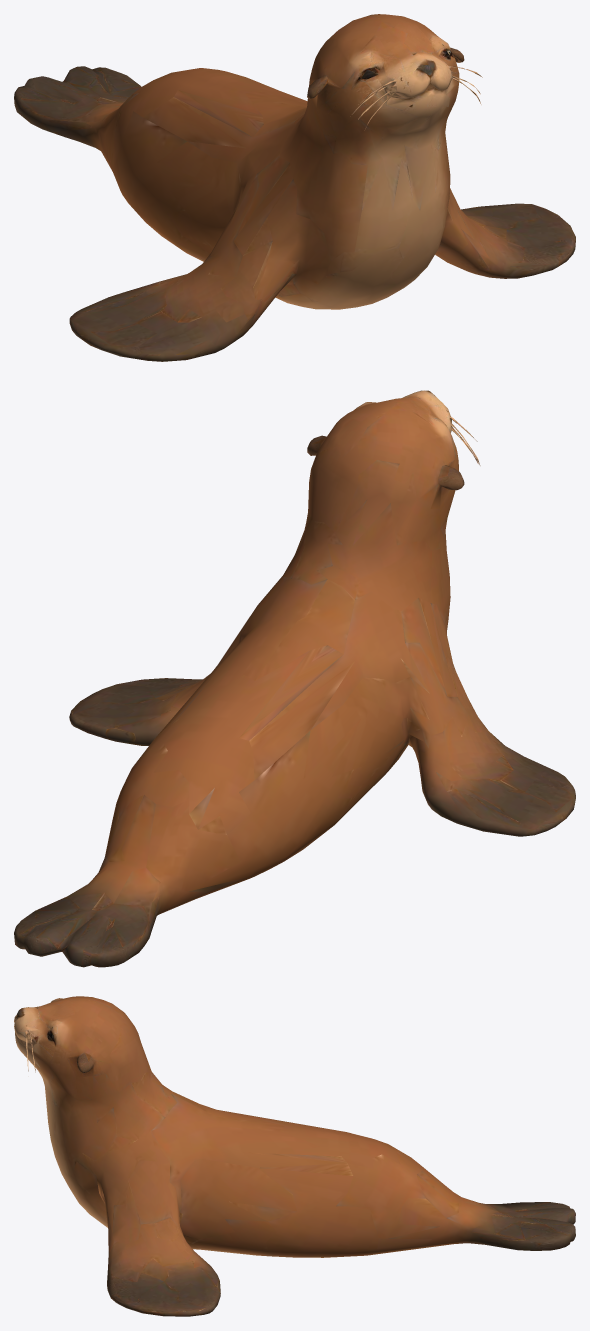
File: sea-lion.glb
3 renders of one model, top to bottom at view 1: azimuth 30°, elevation 25°; view 2: azimuth 150°, elevation 25°; view 3: azimuth 270°, elevation 25°, orthographic. The views are drawn at different scales.
Visible parts, largest first — view 1: sea-lion; view 2: sea-lion; view 3: sea-lion.
Part boxes in pixels (box(x1,y1,x2,y2)): sea-lion: box(14, 14, 575, 361); sea-lion: box(14, 390, 575, 967); sea-lion: box(14, 996, 575, 1316).
Size of the model in its own units: 1.18 by 0.7494 by 1.6.
Materials: 1 (1 with a texture image).
